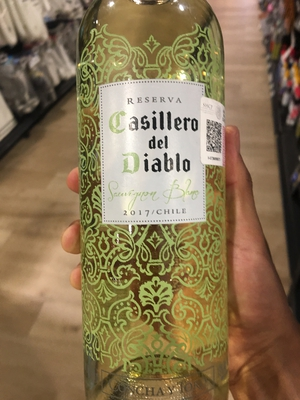casillero del diablo sauvignon blanc: (64, 8, 238, 400)
